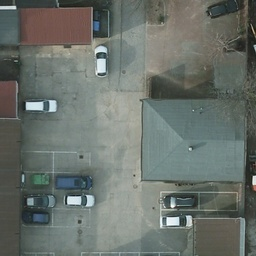car: (208, 0, 242, 21), (22, 97, 57, 113), (159, 214, 193, 230), (163, 195, 199, 210), (94, 45, 109, 78), (23, 209, 51, 226), (63, 194, 96, 208), (24, 195, 57, 209)
van: (54, 174, 93, 191)
